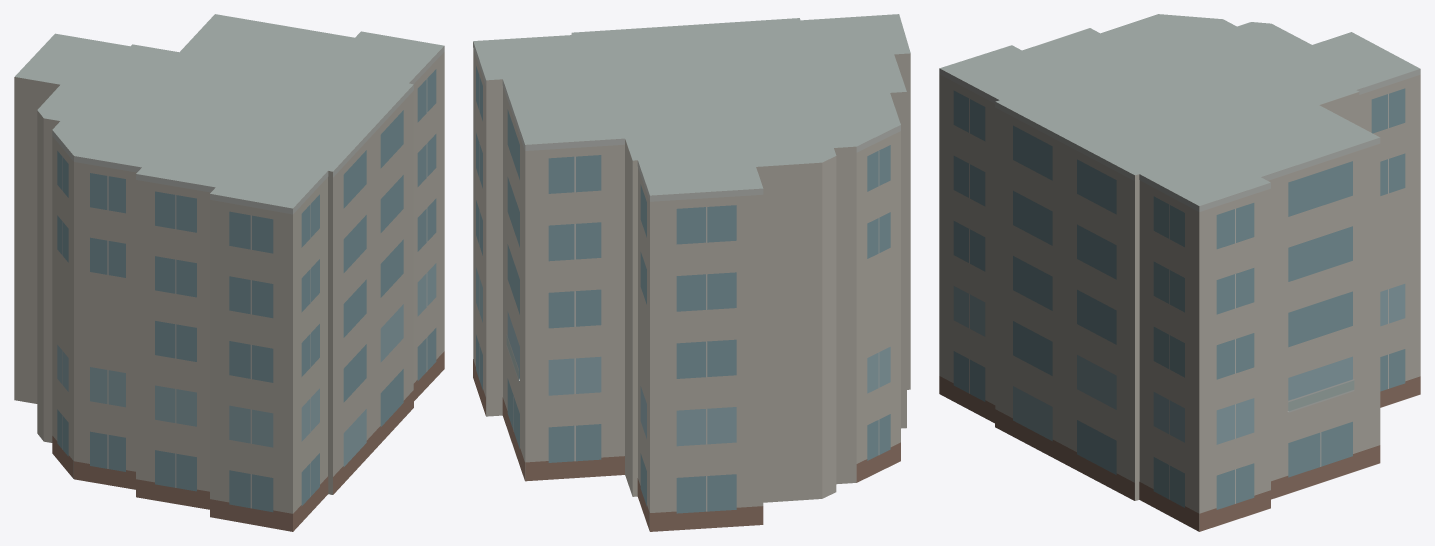
The model's file is survey-upis-32660600.glb.
3 views of the same model, side by side, from view 1: azimuth 30°, elevation 25°; view 2: azimuth 150°, elevation 25°; view 3: azimuth 270°, elevation 25° (orthographic). The views are drawn at different scales.
Visible parts, largest first — view 1: survey-upis-32660600.tmp; view 2: survey-upis-32660600.tmp; view 3: survey-upis-32660600.tmp.
Part boxes in pixels (box(x1,y1,x2,y2)): survey-upis-32660600.tmp: box(14, 14, 444, 531); survey-upis-32660600.tmp: box(473, 14, 910, 531); survey-upis-32660600.tmp: box(939, 14, 1420, 531).
Size of the model in its own units: 16.84 by 13.3 by 17.81.
